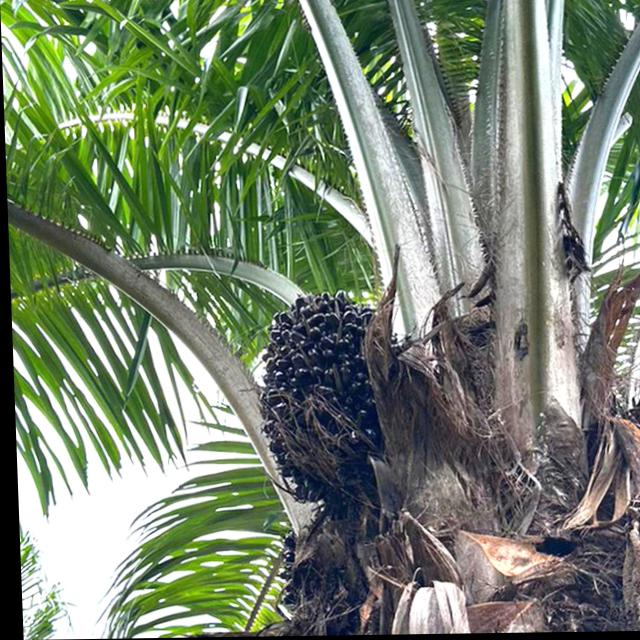unripe: (247, 287, 391, 511)
